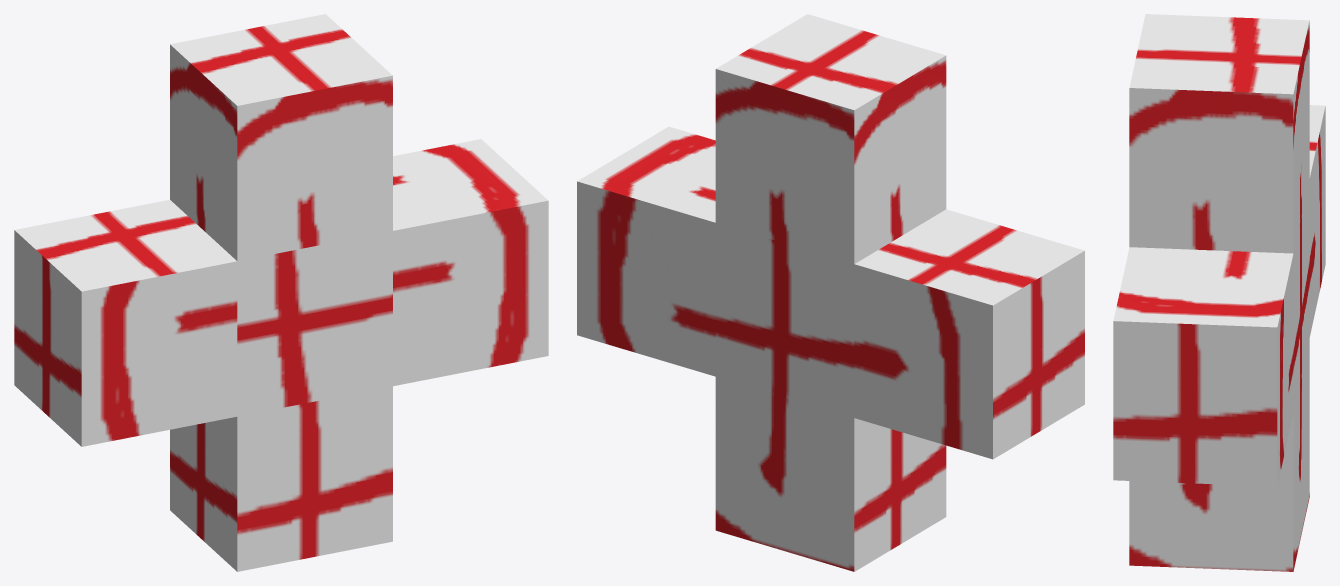
File: HelthMax.fbx
3 renders of one model, left to right at view 1: azimuth 30°, elevation 25°; view 2: azimuth 150°, elevation 25°; view 3: azimuth 270°, elevation 25°, orthographic. The views are drawn at different scales.
Parts seen in each view (by area): view 1: HelthMax; view 2: HelthMax; view 3: HelthMax.
Boxes of the visible parts, left/top/right/bottom form: HelthMax: left=14, top=14, right=548, bottom=571; HelthMax: left=577, top=14, right=1084, bottom=571; HelthMax: left=1113, top=14, right=1325, bottom=571.
Bounding box in the file's own units: 2.05 × 2 × 0.8048.
